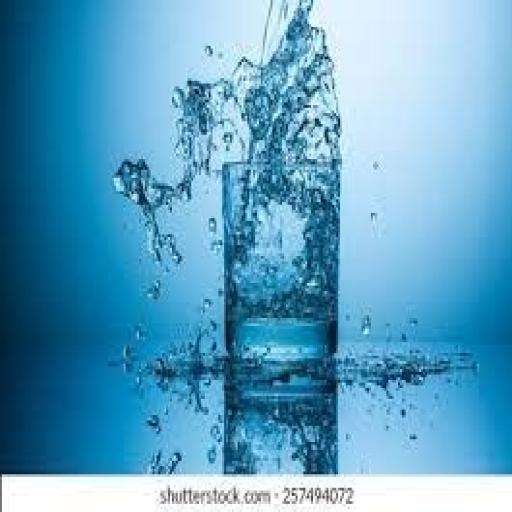bottle: (202, 140, 362, 380)
